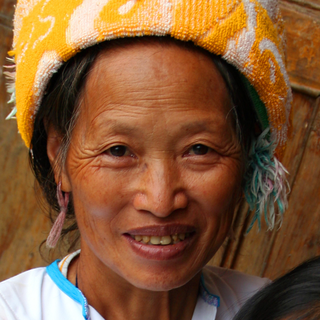eye: (175, 136, 224, 165), (94, 136, 141, 165)
